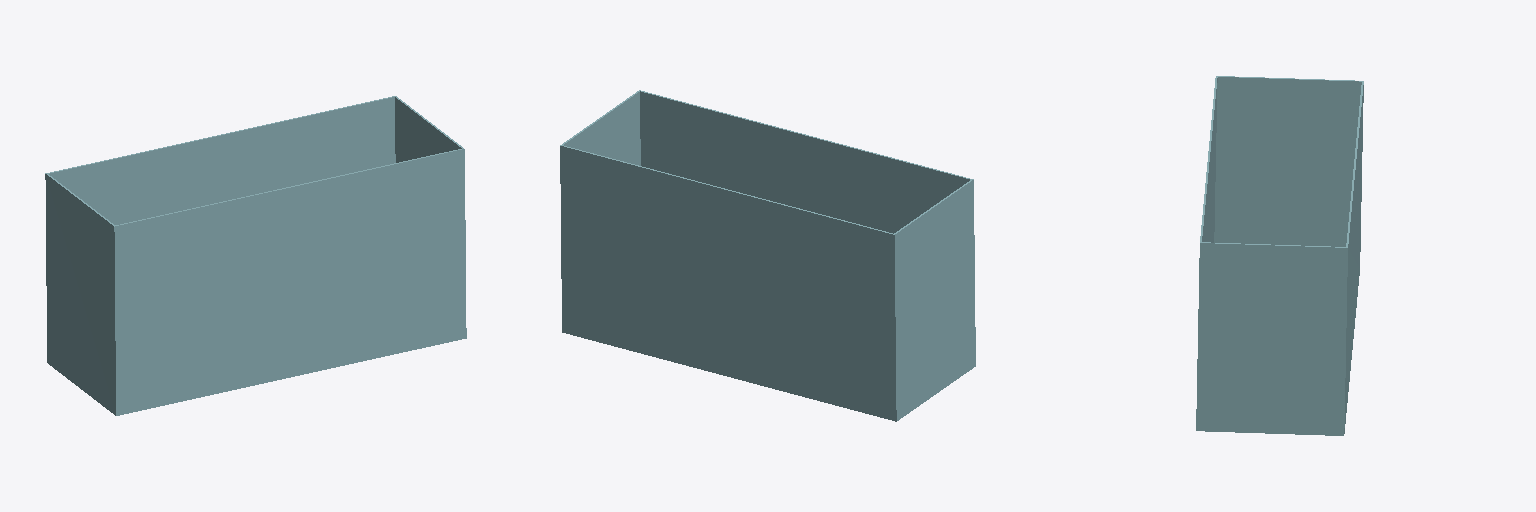
3 views of the same model, side by side, from view 1: azimuth 30°, elevation 25°; view 2: azimuth 150°, elevation 25°; view 3: azimuth 270°, elevation 25° (orthographic).
Parts seen in each view (by area): view 1: vidrioPecera; view 2: vidrioPecera; view 3: vidrioPecera.
Boxes of the visible parts, x1,y1,x2,y2 form: vidrioPecera: [45, 96, 466, 415]; vidrioPecera: [560, 90, 975, 421]; vidrioPecera: [1196, 76, 1363, 435].
Size of the model in its own units: 0.9218 by 0.4831 by 0.3854.
Materials: 1 (1 with a texture image).